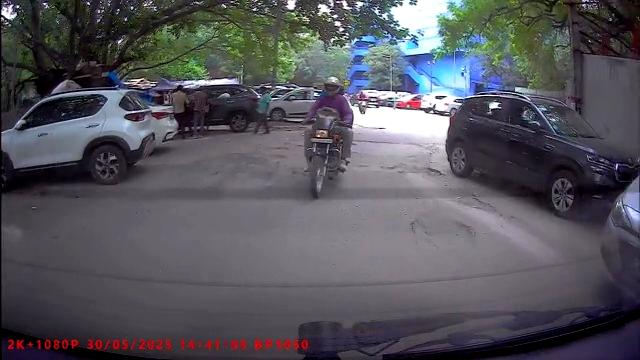motorcycle_with_helmet: (305, 77, 354, 200)
